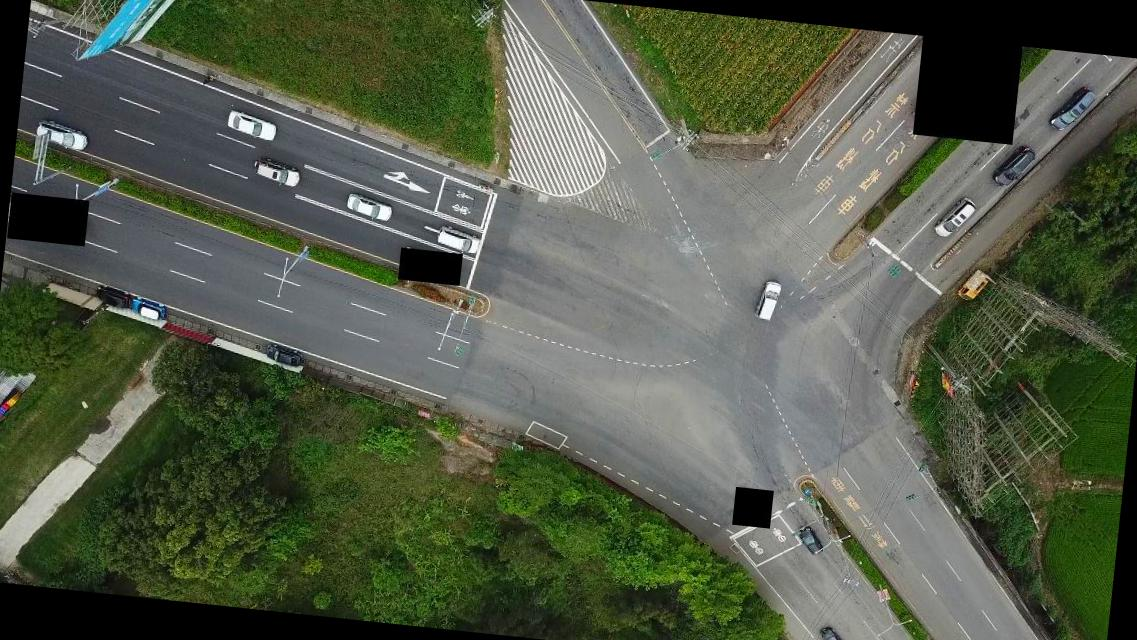vehicle: (1050, 84, 1098, 134), (992, 144, 1038, 192), (932, 195, 977, 242), (224, 108, 279, 142), (34, 120, 90, 150), (344, 192, 395, 222), (253, 157, 300, 188), (436, 226, 482, 254), (755, 280, 781, 324), (262, 344, 306, 368), (95, 282, 130, 310), (796, 524, 827, 555), (132, 298, 166, 324), (958, 273, 986, 304), (817, 626, 851, 639)
